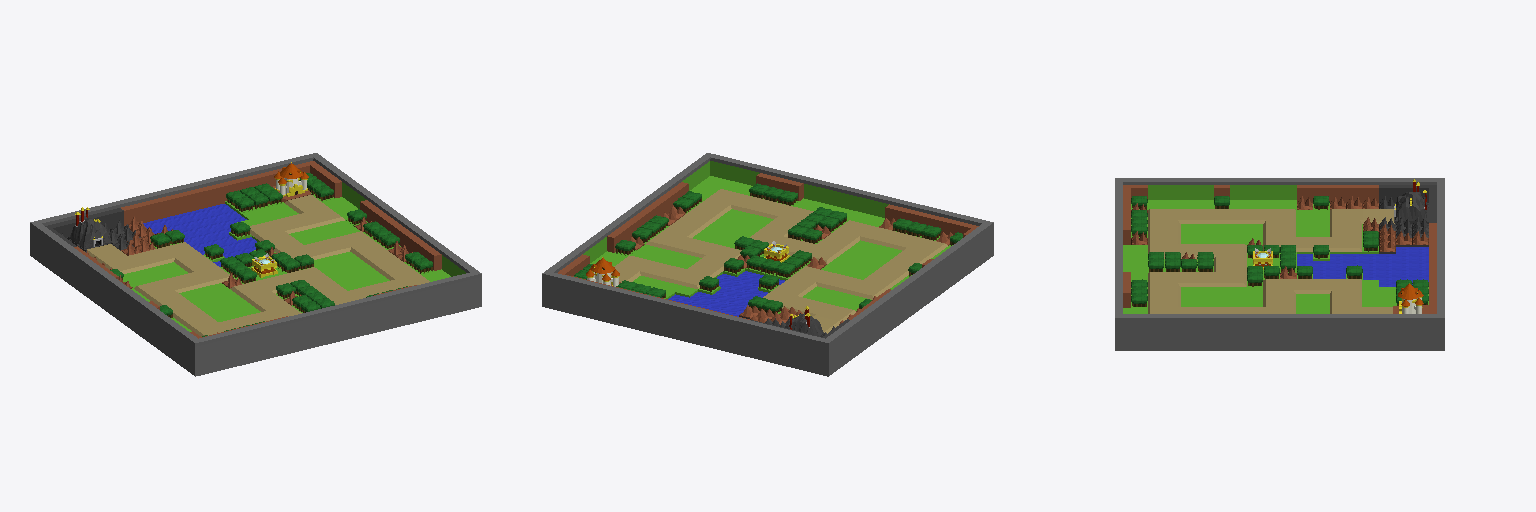
The picture shows the model from 3 angles: view 1: azimuth 30°, elevation 25°; view 2: azimuth 150°, elevation 25°; view 3: azimuth 270°, elevation 25°; orthographic projection.
Parts seen in each view (by area): view 1: Board_combined_new_Plane.004, Cube.001_Cube.002, Enemy_Base_Cube, Player_Base_Cylinder.002; view 2: Board_combined_new_Plane.004, Cube.001_Cube.002, Player_Base_Cylinder.002, Enemy_Base_Cube; view 3: Board_combined_new_Plane.004, Cube.001_Cube.002, Enemy_Base_Cube, Player_Base_Cylinder.002.
Part boxes in pixels (x1,y1,x2,y2): Board_combined_new_Plane.004: (30, 153, 481, 376); Cube.001_Cube.002: (84, 195, 429, 336); Enemy_Base_Cube: (68, 207, 111, 248); Player_Base_Cylinder.002: (274, 162, 308, 196); Board_combined_new_Plane.004: (542, 153, 993, 376); Cube.001_Cube.002: (611, 189, 947, 333); Player_Base_Cylinder.002: (586, 257, 619, 286); Enemy_Base_Cube: (785, 306, 823, 336); Board_combined_new_Plane.004: (1115, 178, 1444, 350); Cube.001_Cube.002: (1148, 209, 1394, 313); Enemy_Base_Cube: (1394, 179, 1426, 221); Player_Base_Cylinder.002: (1398, 283, 1423, 313).
Size of the model in its own units: 38.86 by 6.56 by 38.86.
Materials: 4 (4 with a texture image).